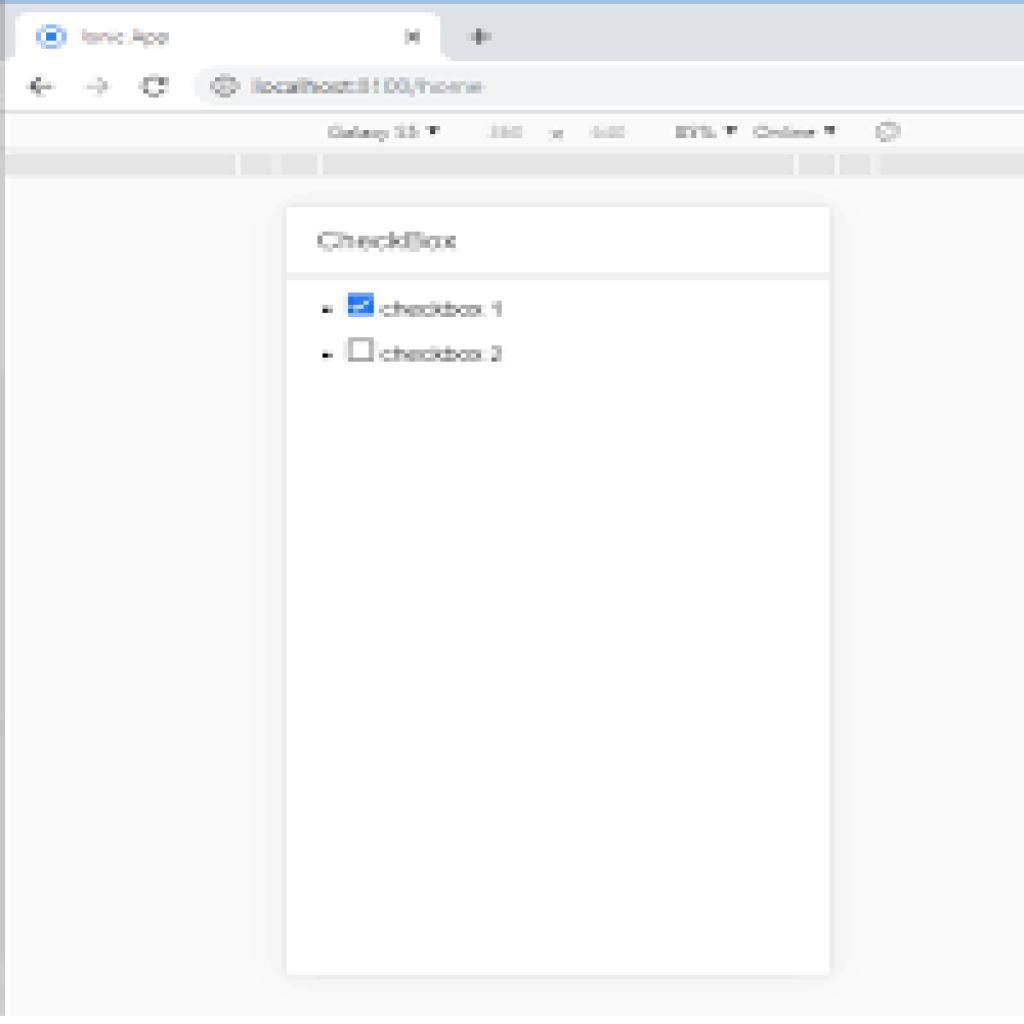checkbox: (346, 290, 376, 321), (347, 337, 376, 366)
icon: (204, 68, 248, 104), (137, 71, 171, 101), (84, 74, 114, 103), (28, 77, 62, 102)
